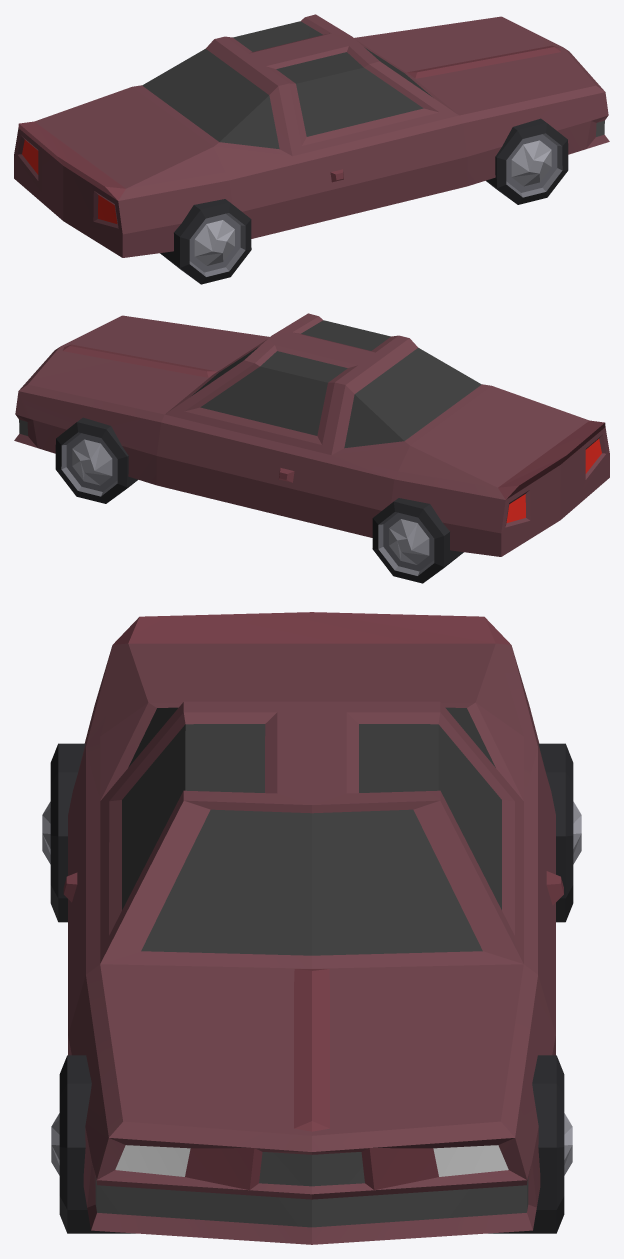
Rendered from car3.fbx.
The picture shows the model from 3 angles, top to bottom: view 1: azimuth 30°, elevation 25°; view 2: azimuth 150°, elevation 25°; view 3: azimuth 270°, elevation 25°; orthographic projection. The views are drawn at different scales.
Parts seen in each view (by area): view 1: car3, car3_wheels_B, car3_wheels_F; view 2: car3, car3_wheels_B, car3_wheels_F; view 3: car3, car3_wheels_F, car3_wheels_B.
Part boxes in pixels (bbox=[...]): car3: bbox=[14, 14, 609, 257]; car3_wheels_B: bbox=[160, 199, 251, 284]; car3_wheels_F: bbox=[486, 118, 568, 204]; car3: bbox=[14, 313, 609, 556]; car3_wheels_B: bbox=[372, 498, 463, 583]; car3_wheels_F: bbox=[55, 417, 137, 503]; car3: bbox=[63, 612, 563, 1244]; car3_wheels_F: bbox=[51, 1055, 572, 1233]; car3_wheels_B: bbox=[42, 743, 581, 922].
Bounding box in the file's own units: 727 × 202 × 332.
